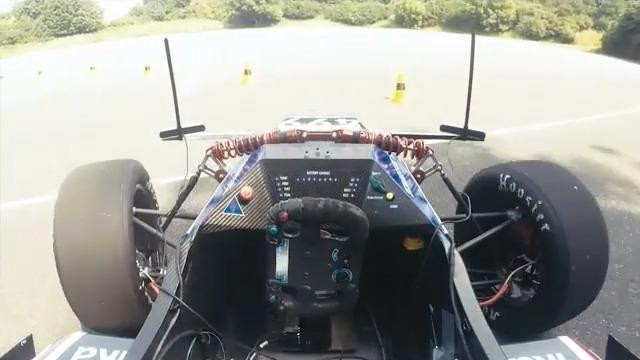yellow_cone: (390, 73, 412, 105), (241, 62, 256, 86)
